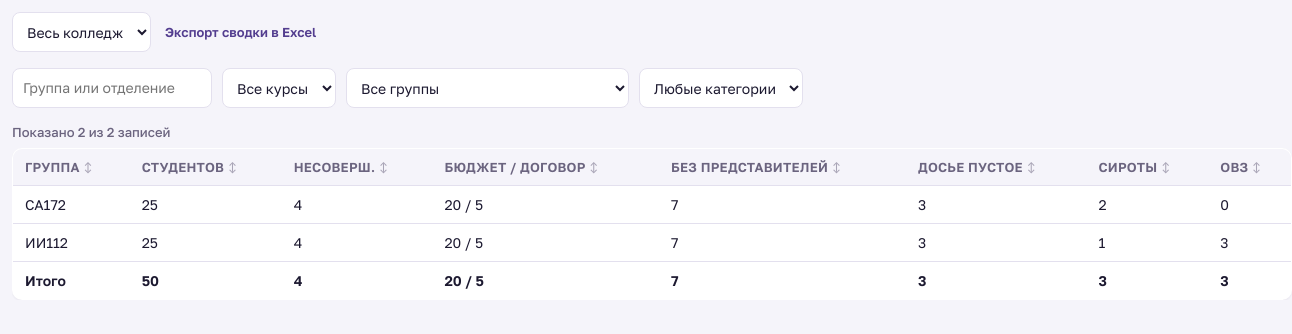
Test: PassportPage — сводка › выгрузка сводки учитывает выбранное отделение; ошибка скачивания показывается
expect the cell "СА172" is shown: met, box left=12, top=186, right=130, bottom=224
Step 1. Select "Моссовет" in the dropdown named "Отделение" → (82, 32), box left=12, top=12, right=151, bottom=52
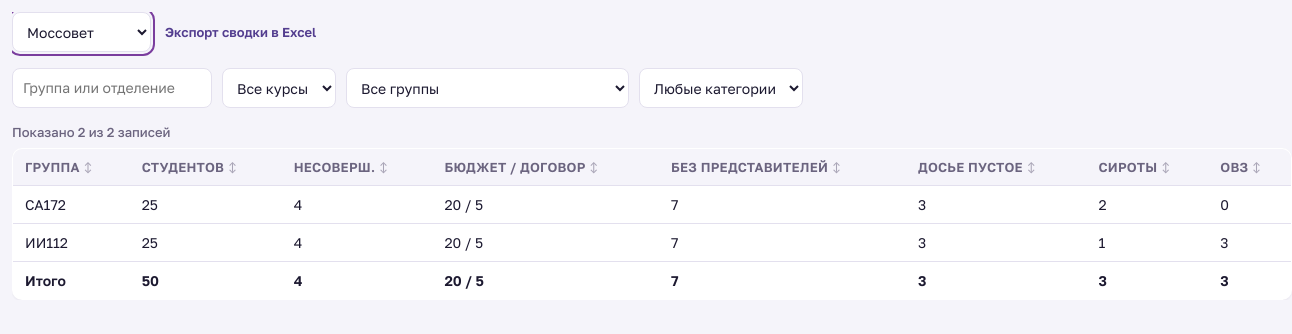
Step 2. Click the button "Экспорт сводки в Excel" → (241, 32), box left=161, top=12, right=320, bottom=52
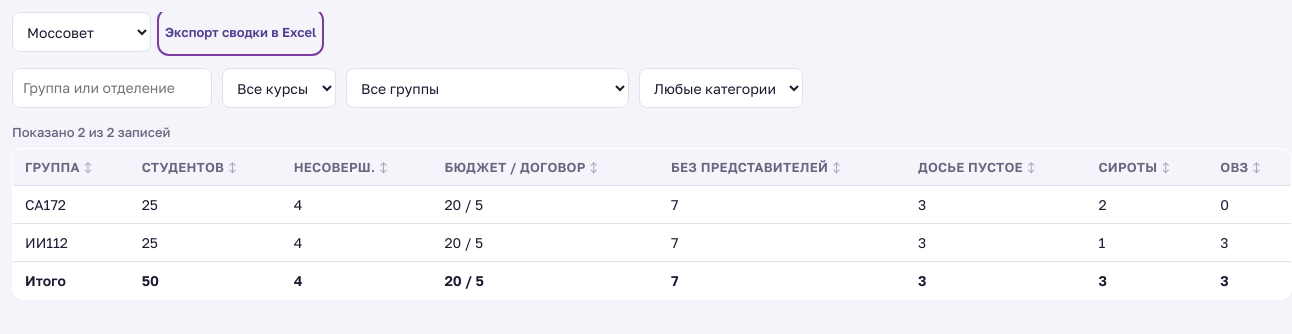
Step 3. Click the button "Экспорт сводки в Excel" → (241, 32), box left=161, top=12, right=320, bottom=52
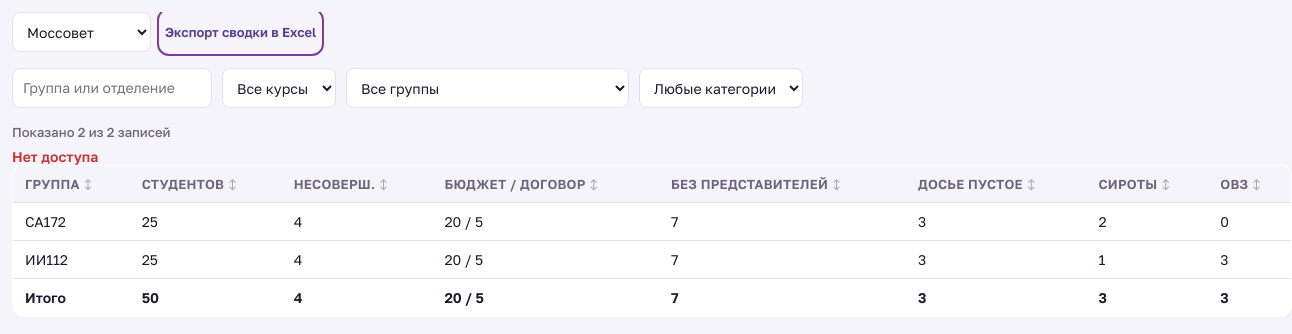
expect the text "Нет доступа" is shown: met, box left=12, top=148, right=98, bottom=165
